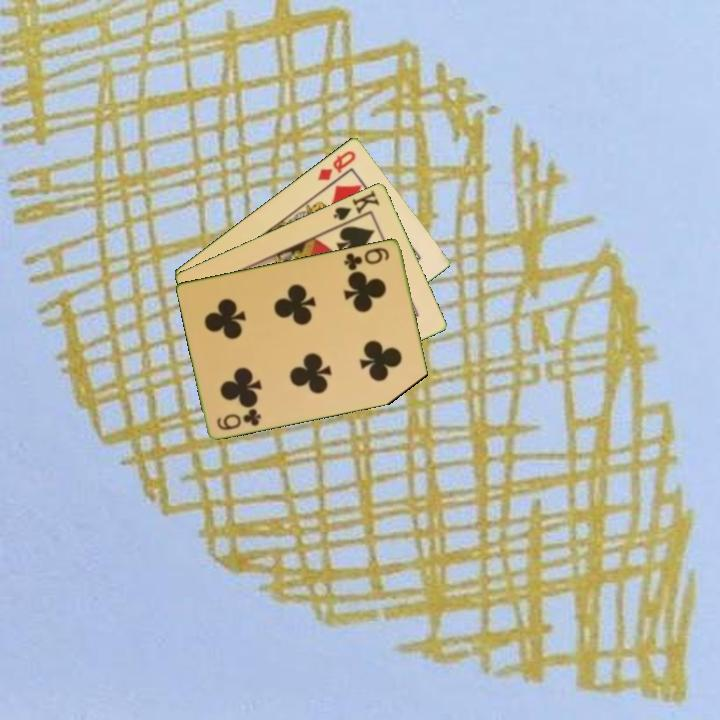6c: (341, 244, 393, 273), (213, 405, 264, 433)
Ks: (329, 186, 382, 223)
Qd: (314, 146, 359, 183)
